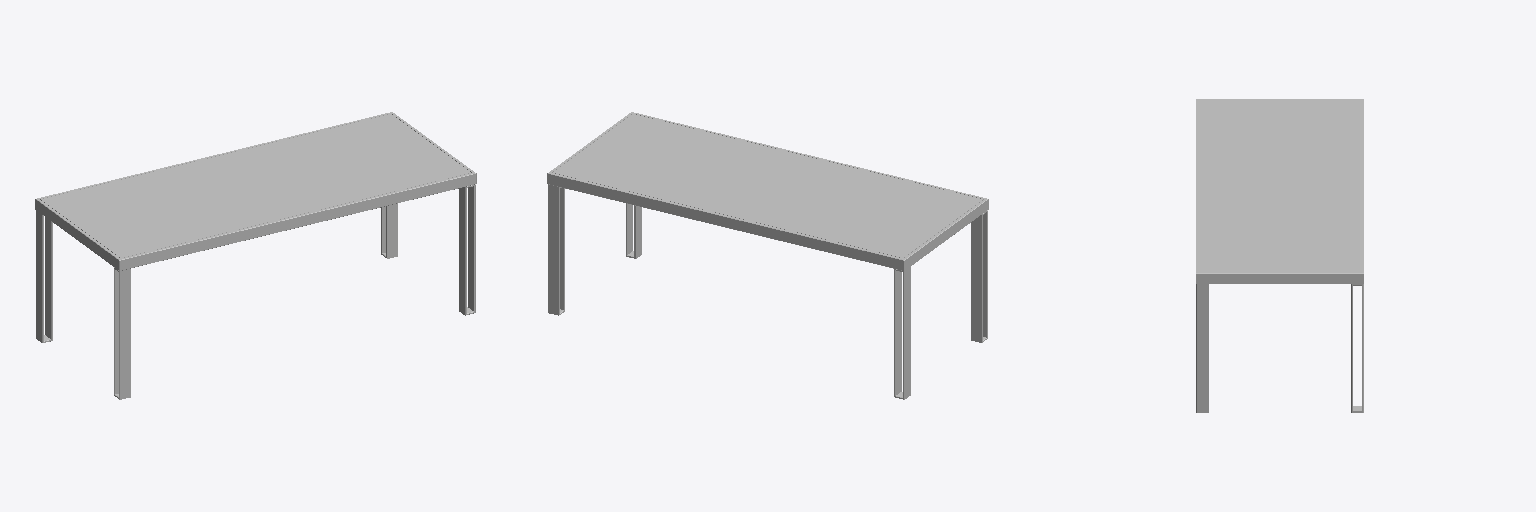
Rendered from simple_table.obj.
3 renders of one model, left to right at view 1: azimuth 30°, elevation 25°; view 2: azimuth 150°, elevation 25°; view 3: azimuth 270°, elevation 25°, orthographic.
Parts seen in each view (by area): view 1: Box090; view 2: Box090; view 3: Box090.
Boxes of the visible parts, box(x1,y1,x2,y2) form: Box090: box(35, 112, 476, 399); Box090: box(547, 112, 988, 399); Box090: box(1196, 99, 1363, 412).
Bounding box in the file's own units: 203 × 75.97 × 82.83.